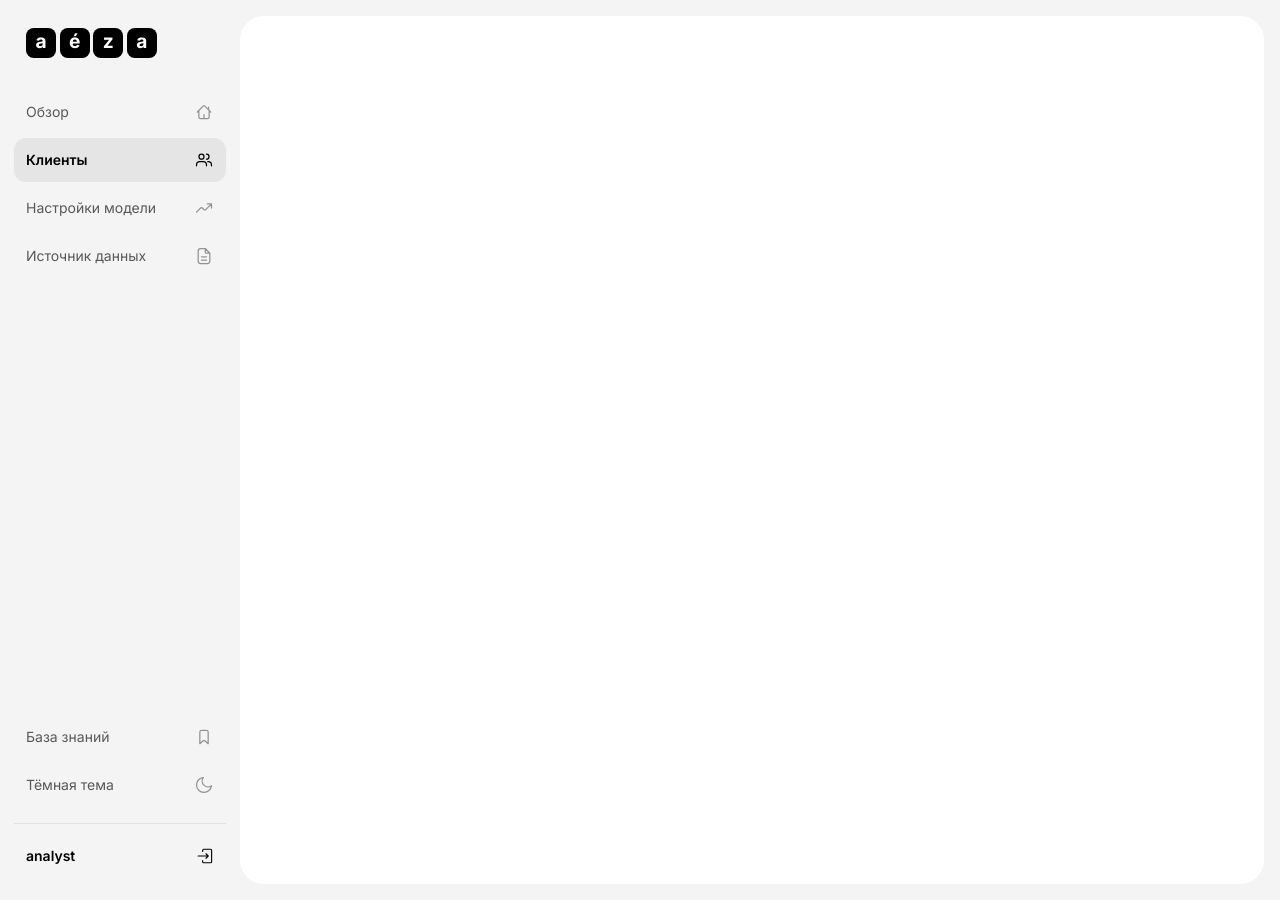
Test case: AppLayout logout › keeps the session and explains a failed server logout
Click the button named "Выйти из аккаунта" at (206, 856), box left=186, top=836, right=226, bottom=876
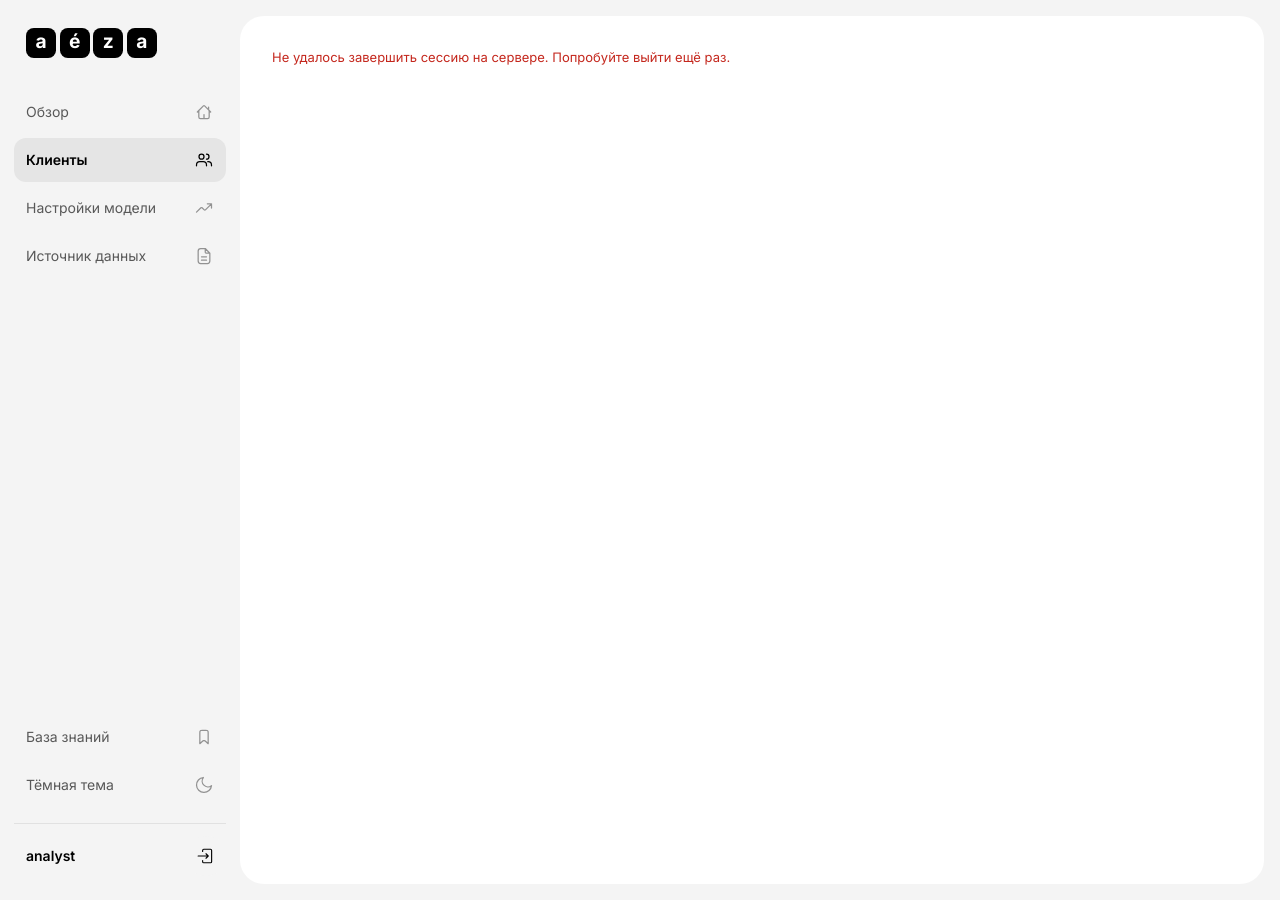
Now the message "Не удалось завершить сессию на сервере. Попробуйте выйти ещё раз." is shown, box left=272, top=49, right=730, bottom=65
